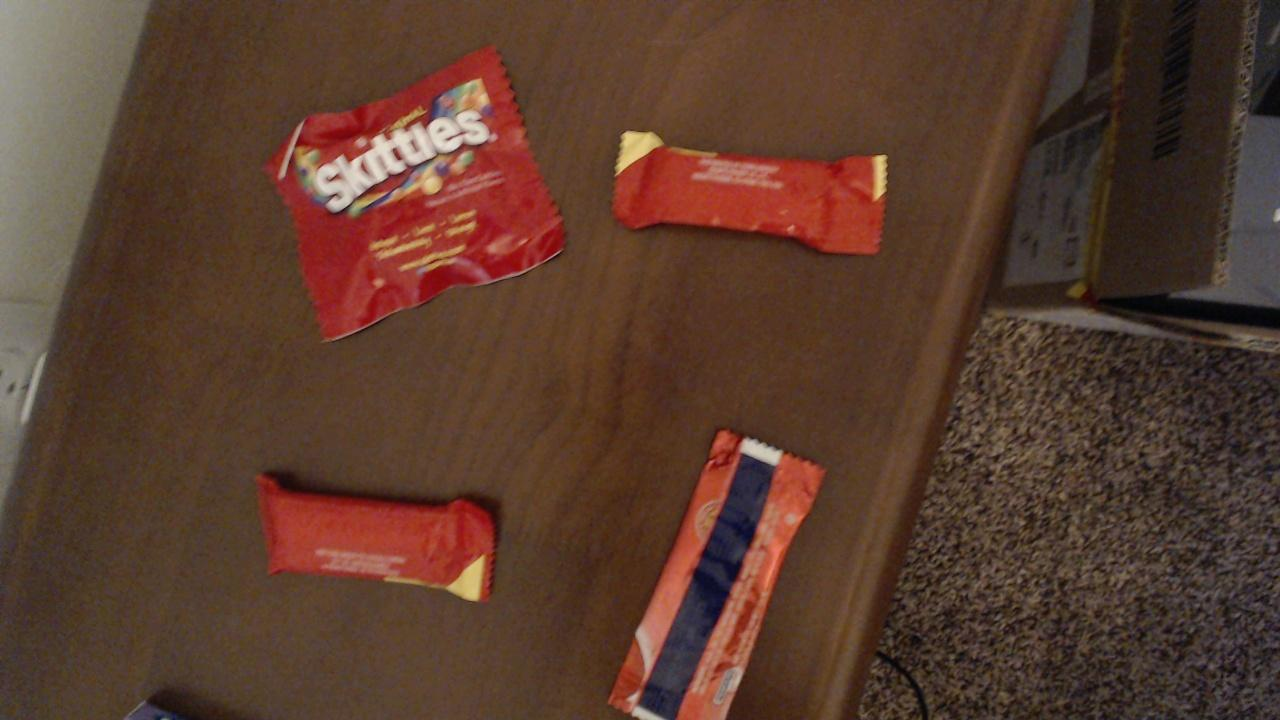airheads: (607, 427, 826, 718)
skittles: (261, 45, 567, 341)
starburst: (605, 130, 890, 253), (255, 476, 501, 603)
